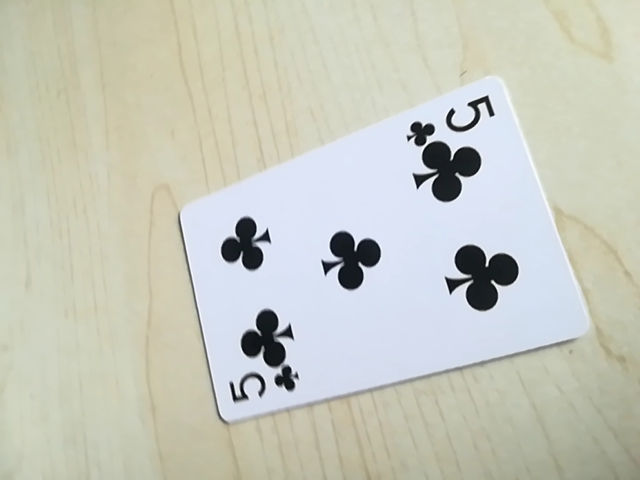mh 5: (402, 93, 500, 142), (223, 363, 302, 412)
